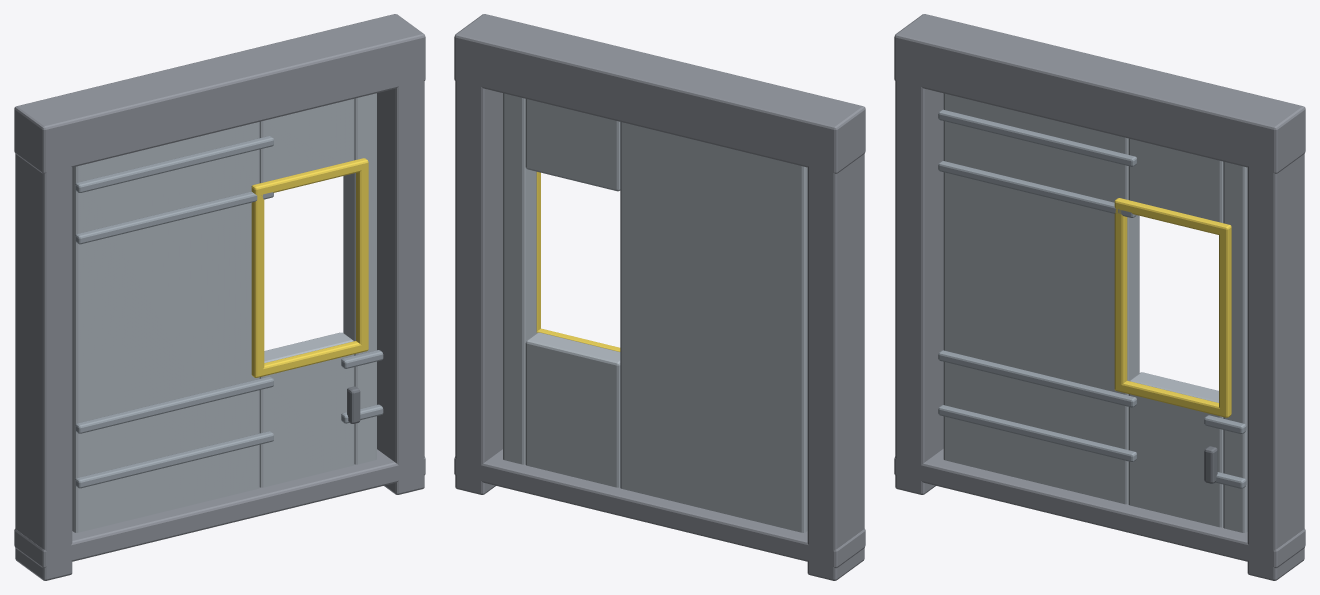
The model's file is ворота.glb.
3 views of the same model, side by side, from view 1: azimuth 30°, elevation 25°; view 2: azimuth 150°, elevation 25°; view 3: azimuth 330°, elevation 25° (orthographic).
Visible parts, largest first — view 1: GateLeaf_Mesh, ворота; view 2: GateLeaf_Mesh, ворота; view 3: GateLeaf_Mesh, ворота.
Part boxes in pixels (x1=…): GateLeaf_Mesh: x1=72, y1=93, x2=383, y2=532; ворота: x1=14, y1=14, x2=425, y2=580; GateLeaf_Mesh: x1=503, y1=93, x2=807, y2=532; ворота: x1=454, y1=14, x2=865, y2=580; GateLeaf_Mesh: x1=938, y1=93, x2=1247, y2=532; ворота: x1=894, y1=14, x2=1305, y2=580.
Size of the model in its own units: 2.35 by 2.67 by 0.32.
